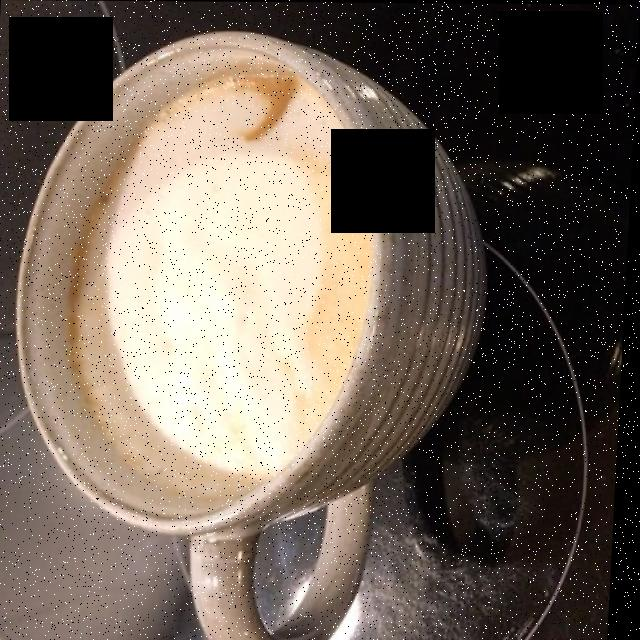cappuccino: (74, 63, 375, 489)
